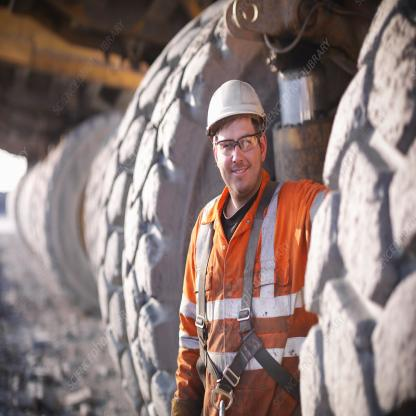person: (156, 69, 330, 415)
